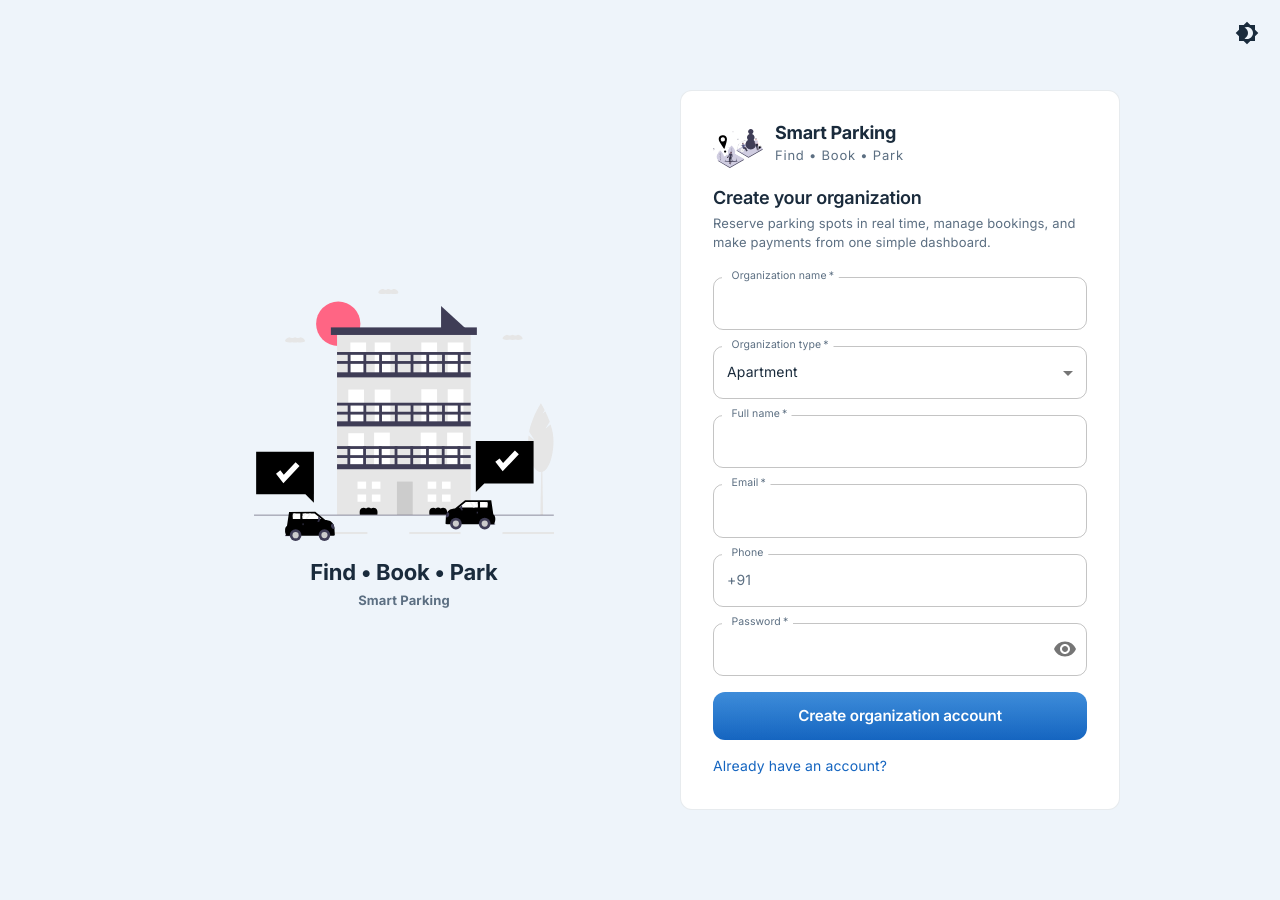
Test: RegisterPage › shows validation error when registration fails
Type "Sunrise Apartments" into the field labelled "Organization name *" at (900, 304), box x1=713 y1=277 x2=1087 y2=330
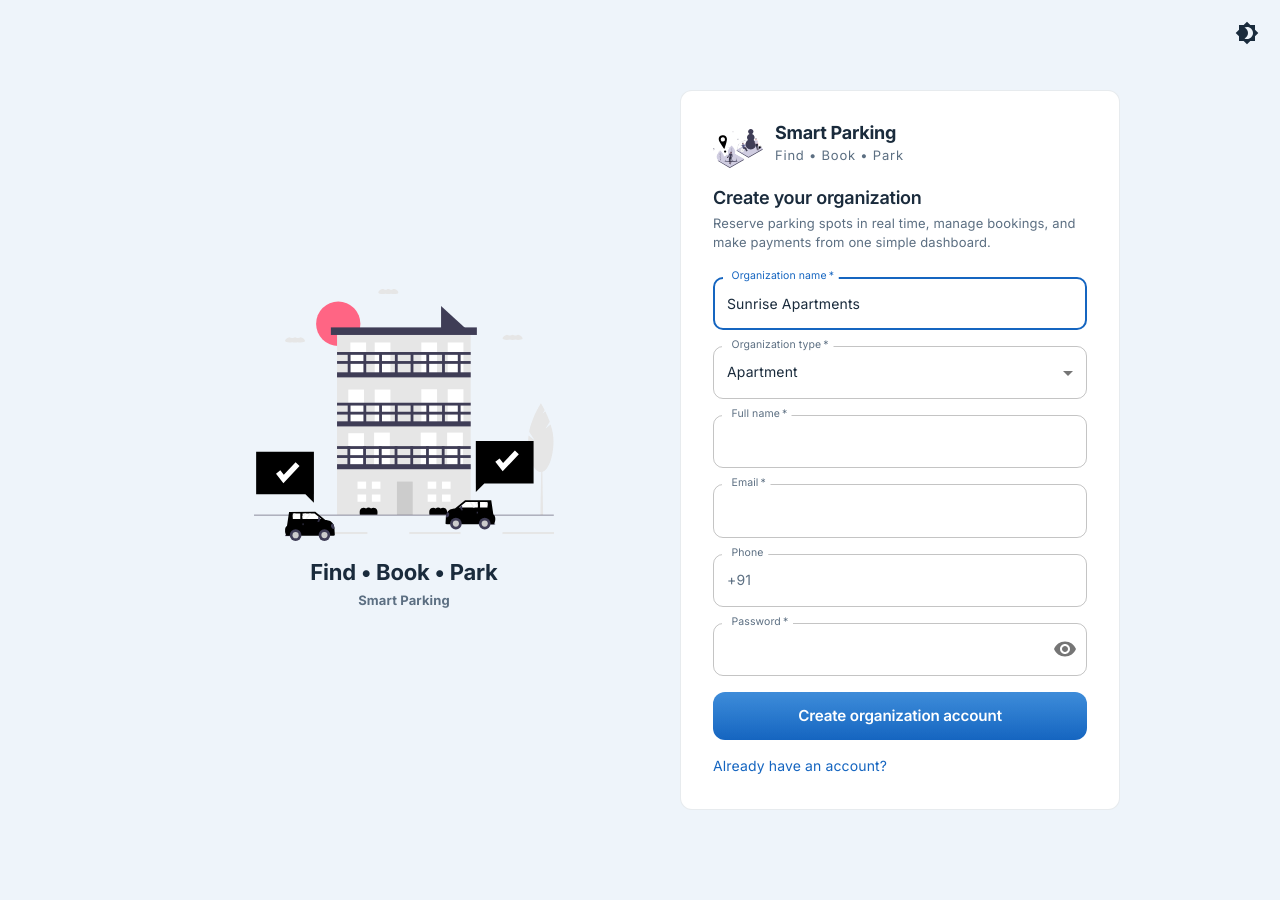
Type "New User" into the field labelled "Full name *" at (900, 442), box x1=713 y1=415 x2=1087 y2=468
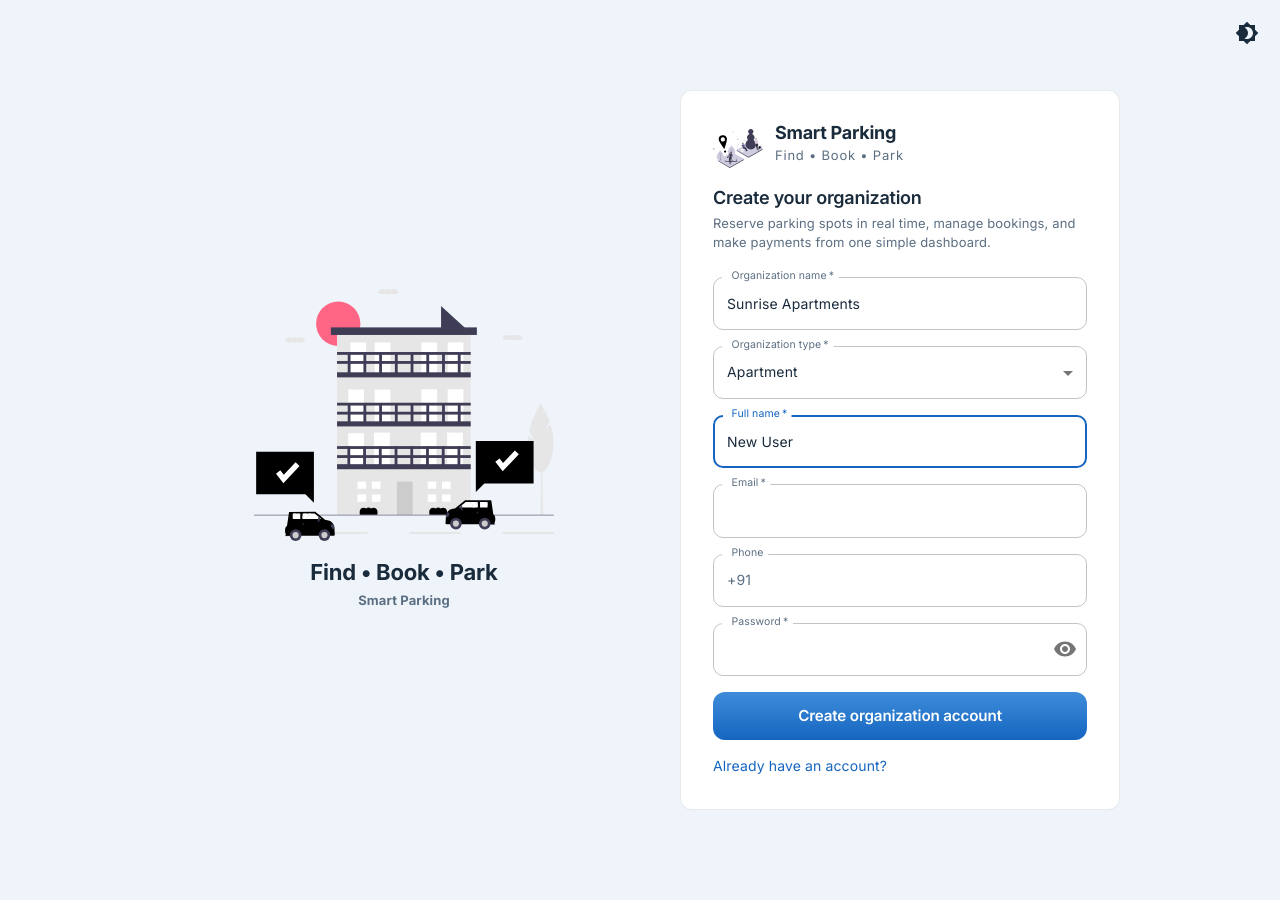
Type "new@example.com" into the field labelled "Email *" at (900, 511), box x1=713 y1=484 x2=1087 y2=538
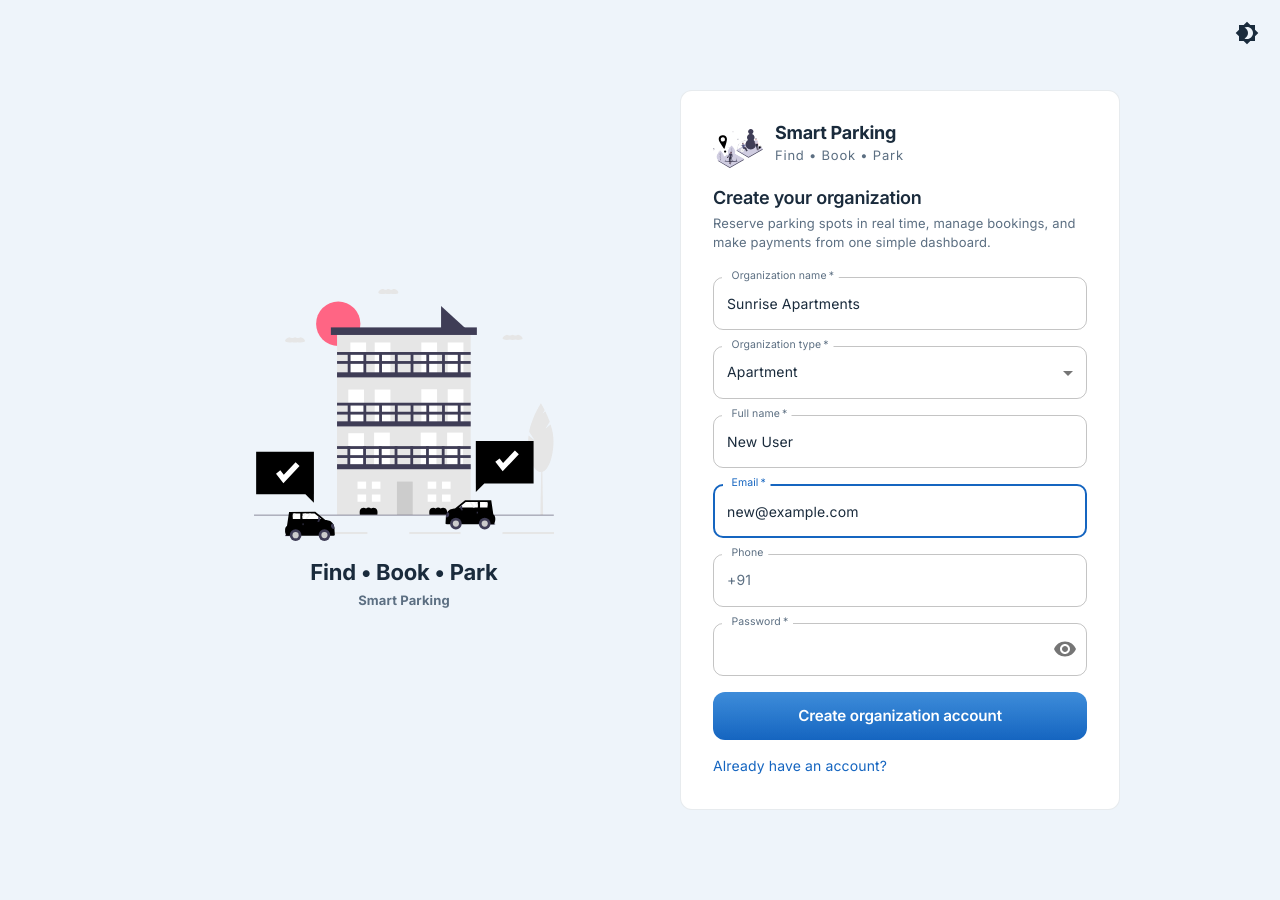
Type "secret123" into the password field with test id "register-password" at (875, 649), box x1=713 y1=623 x2=1037 y2=676
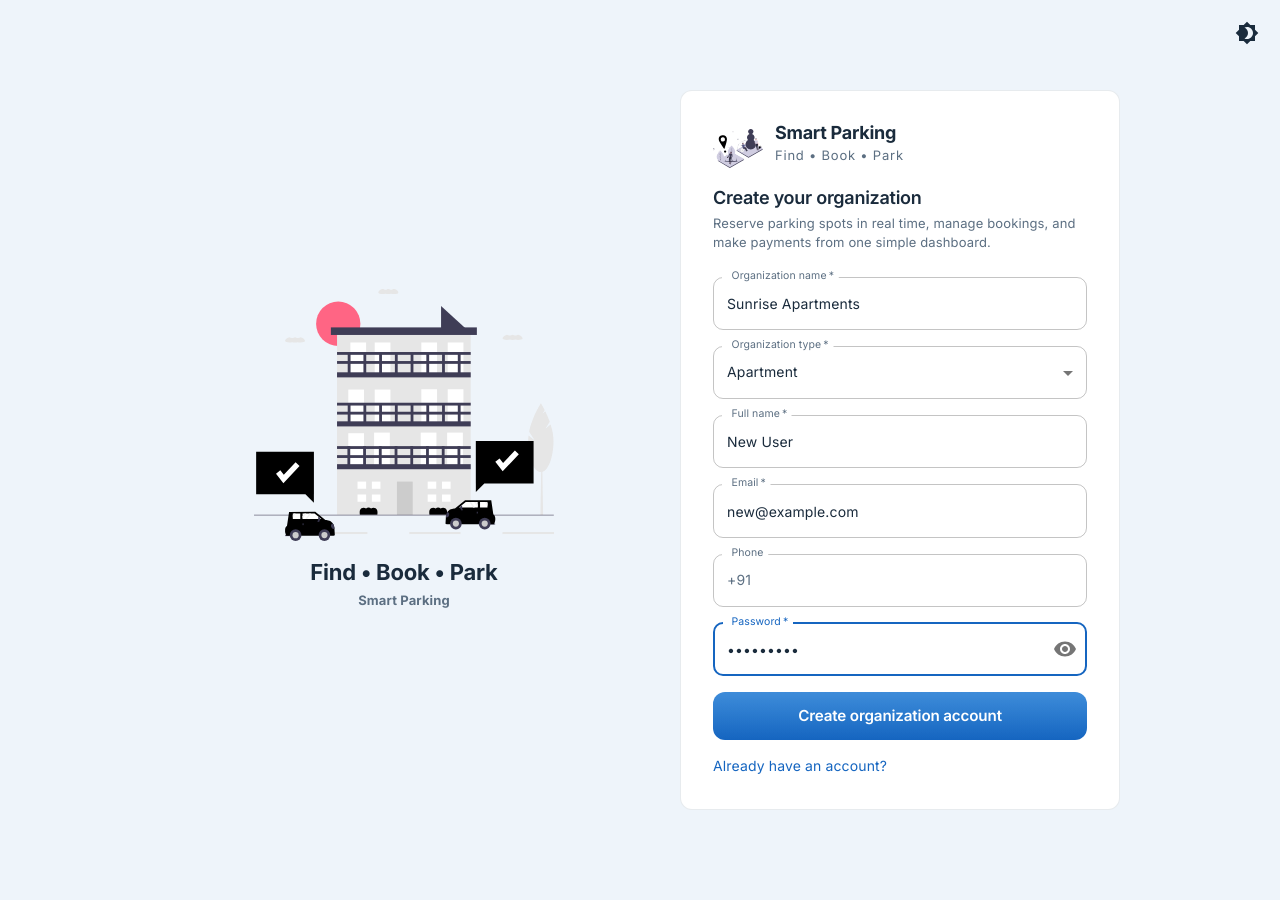
Click the button "Create organization account" at (900, 716), box x1=713 y1=692 x2=1087 y2=740
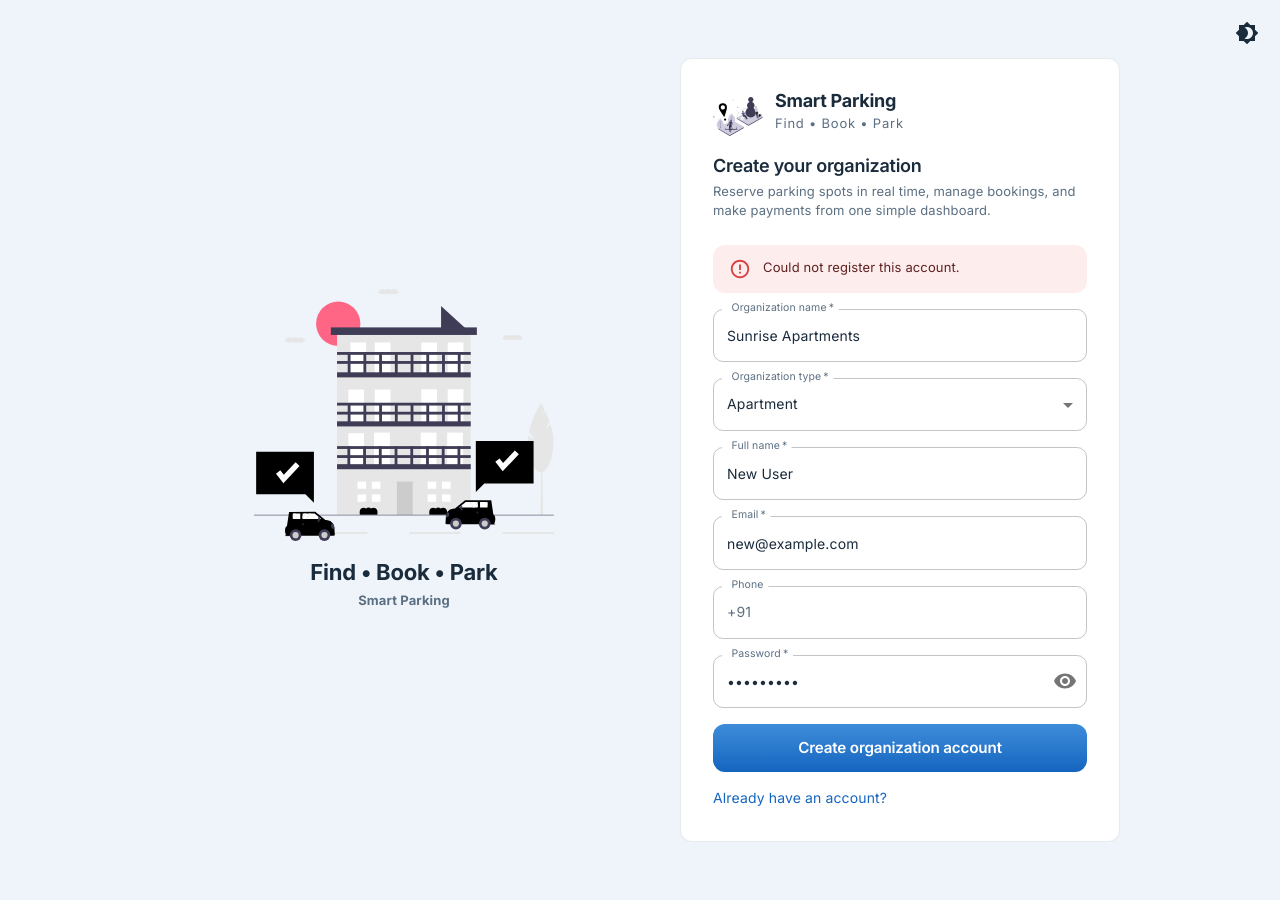
Result: the message shows "Could not register this account" at x1=763 y1=260 x2=960 y2=276
